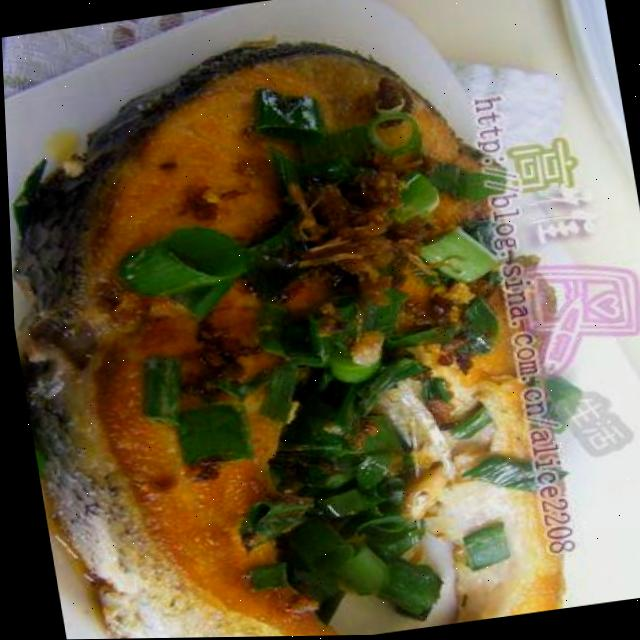熟制海鲜: (0, 5, 609, 640)
